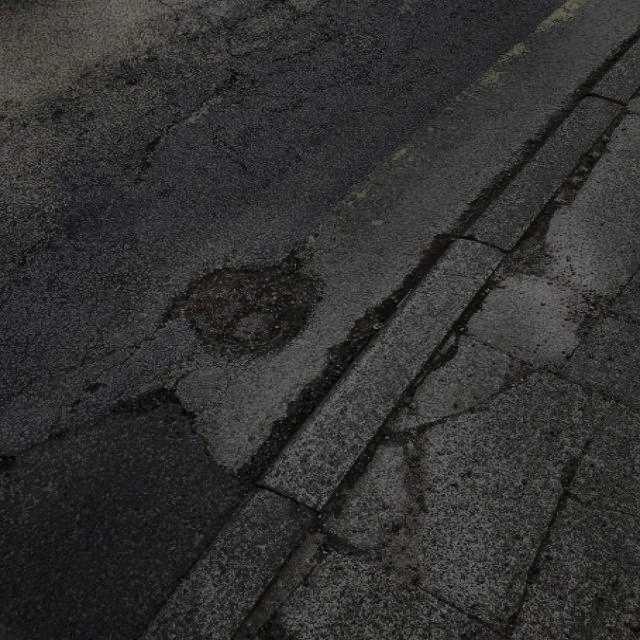Pothole: (156, 242, 330, 356)
